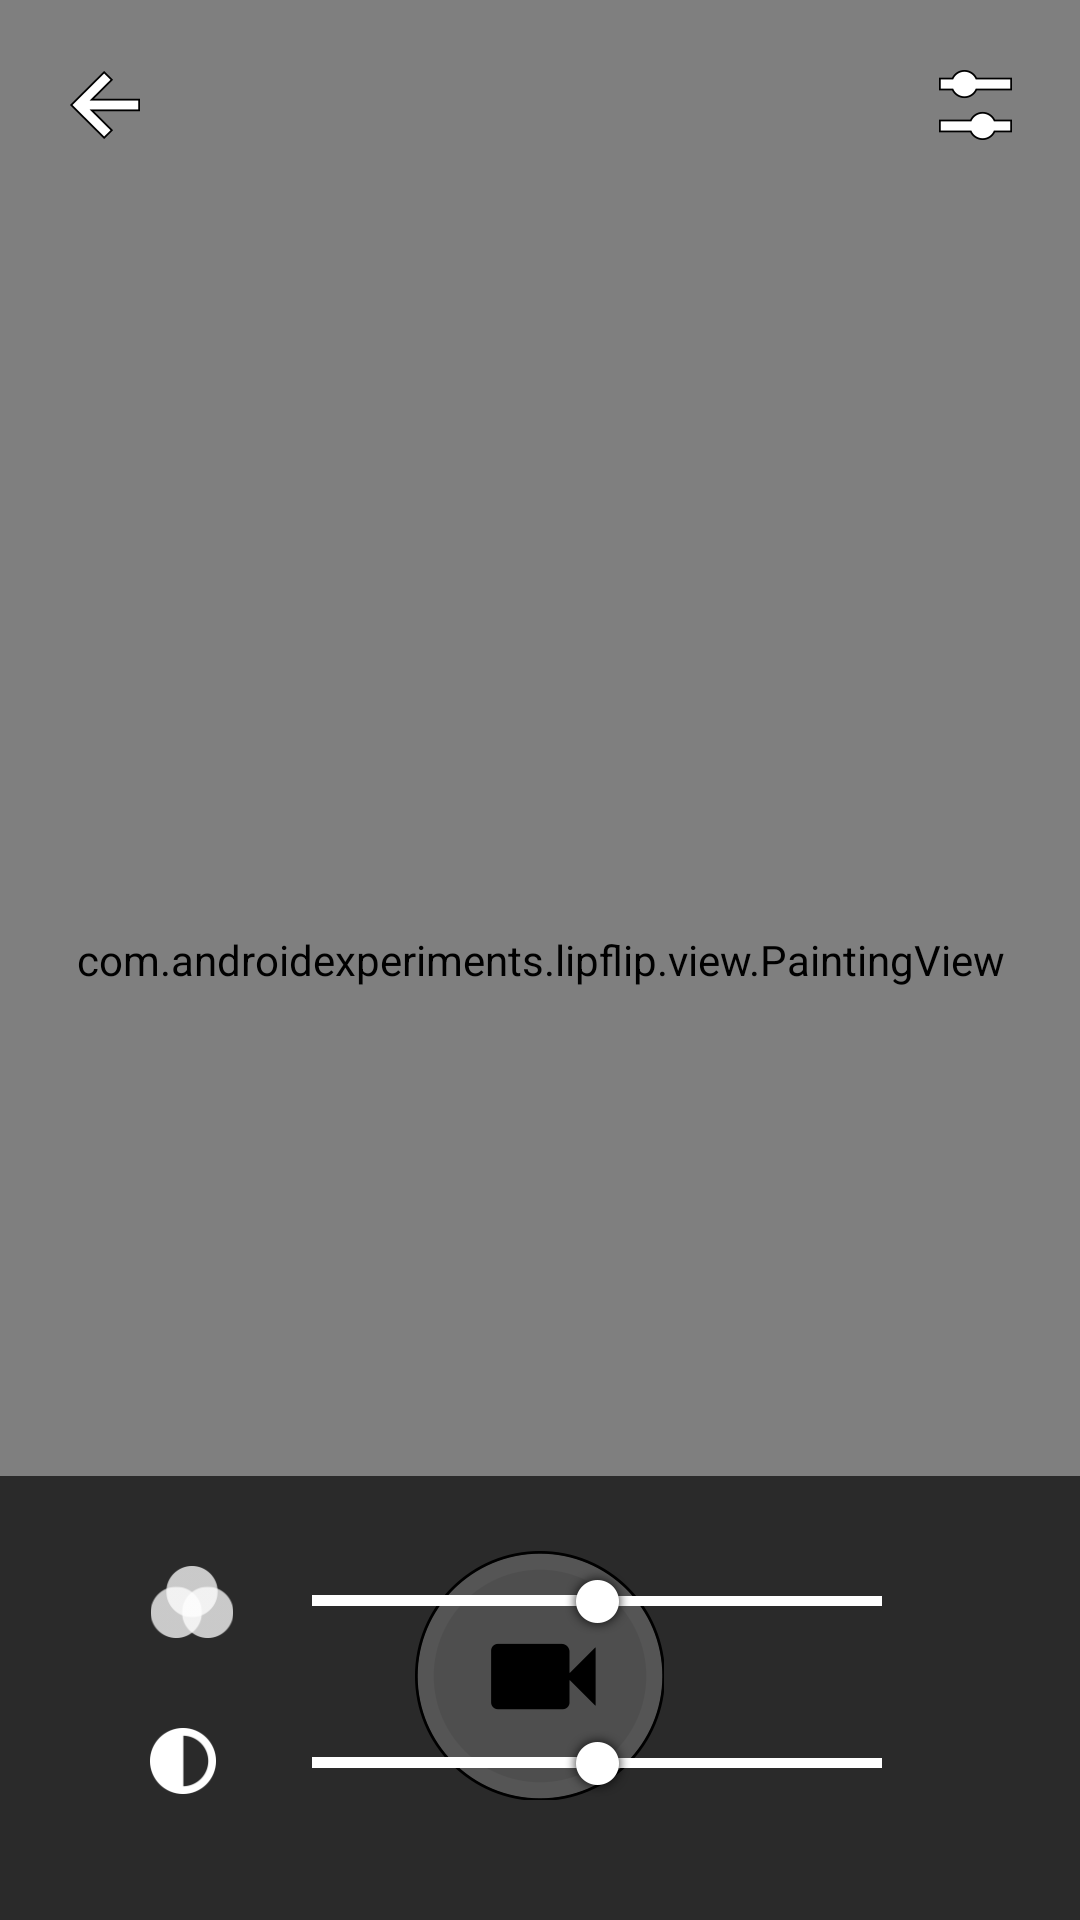

Locate icon controls on the screen. Image size 1080 × 1920, boxes as (x1, y1, x2, y2).
Back: (70, 71, 140, 139)
Edit Colors: (939, 70, 1012, 140)
edit gamma: (150, 1728, 216, 1794)
edit hue: (151, 1566, 233, 1638)
